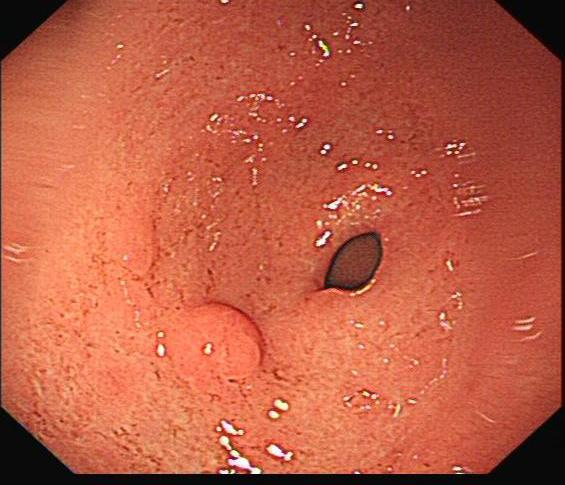Polyp: (159, 298, 268, 393)
